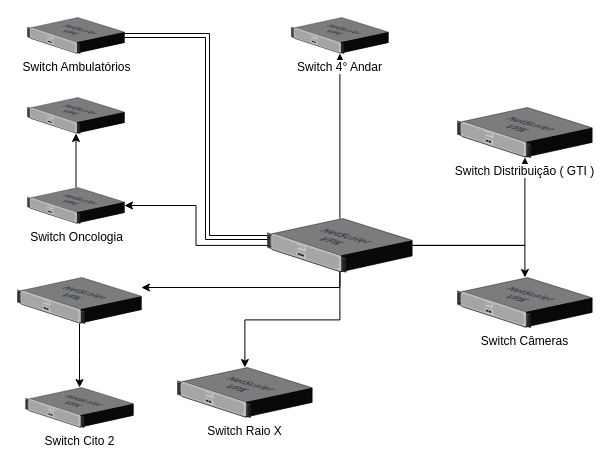
Image size: 611x465. Some labels were removed from this diagram. Here are the shapes that lost their labels. From the top down, the box of each, then its label:
(27, 97, 124, 133): Switch Oftalmologia
(267, 218, 412, 272): Switch [ Core ]
(17, 277, 141, 323): Switch Cito 1
